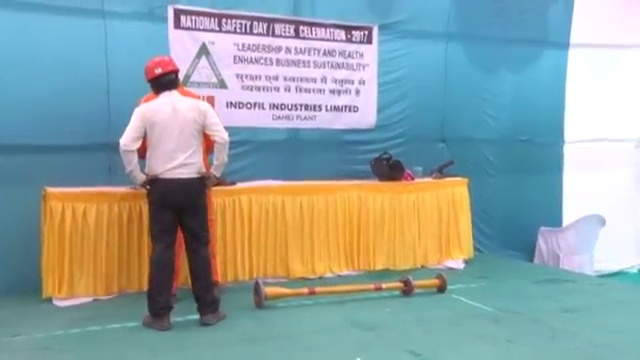helmet: (141, 54, 180, 84)
helmet_on: (140, 55, 182, 95)
person: (119, 53, 229, 329)
